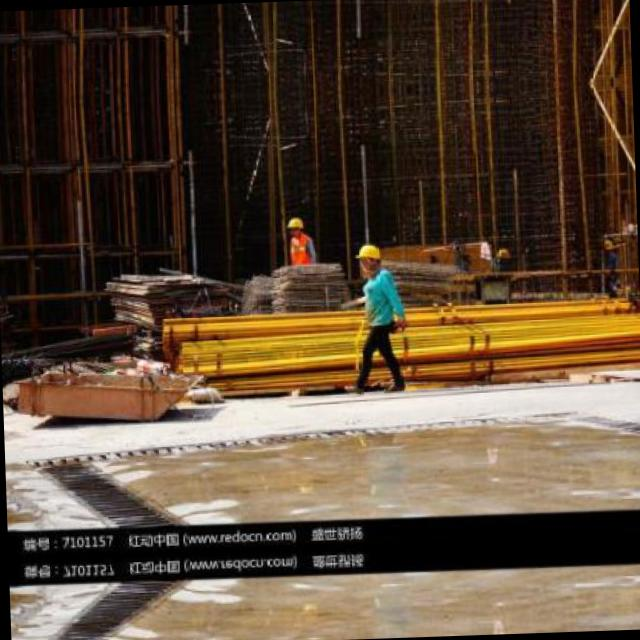helmet: (354, 241, 381, 273), (284, 214, 303, 238), (494, 244, 514, 266), (599, 232, 614, 258)
